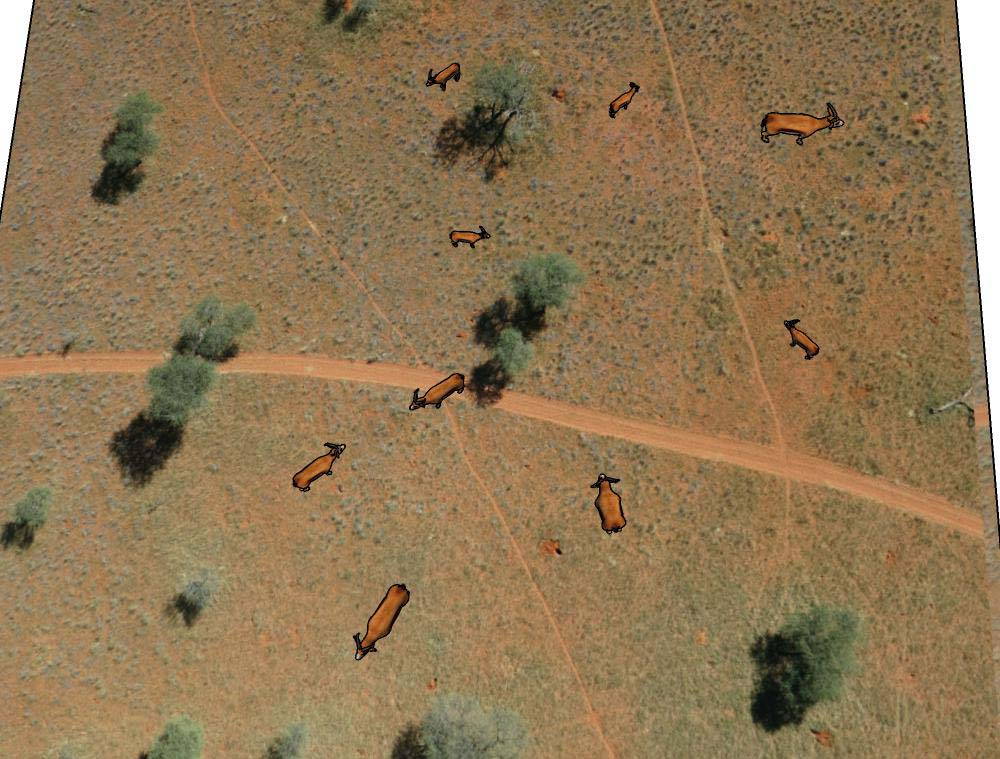springbok: (352, 581, 412, 660), (757, 103, 846, 145), (579, 475, 638, 536), (287, 443, 350, 490), (408, 365, 466, 414), (781, 314, 822, 368), (444, 221, 491, 252), (605, 81, 640, 116), (425, 60, 463, 90)
